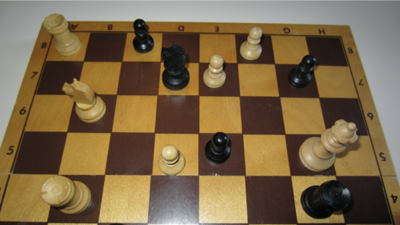black-knight: (160, 42, 191, 92)
black-pawn: (288, 55, 317, 89), (205, 132, 232, 165), (133, 19, 155, 54)
black-rook: (301, 180, 353, 220)
white-knight: (62, 79, 107, 124)
white-pawn: (158, 144, 186, 177), (203, 54, 227, 89), (240, 26, 264, 61)
white-queen: (299, 119, 359, 173)
white-rook: (41, 175, 92, 216), (43, 14, 82, 57)
